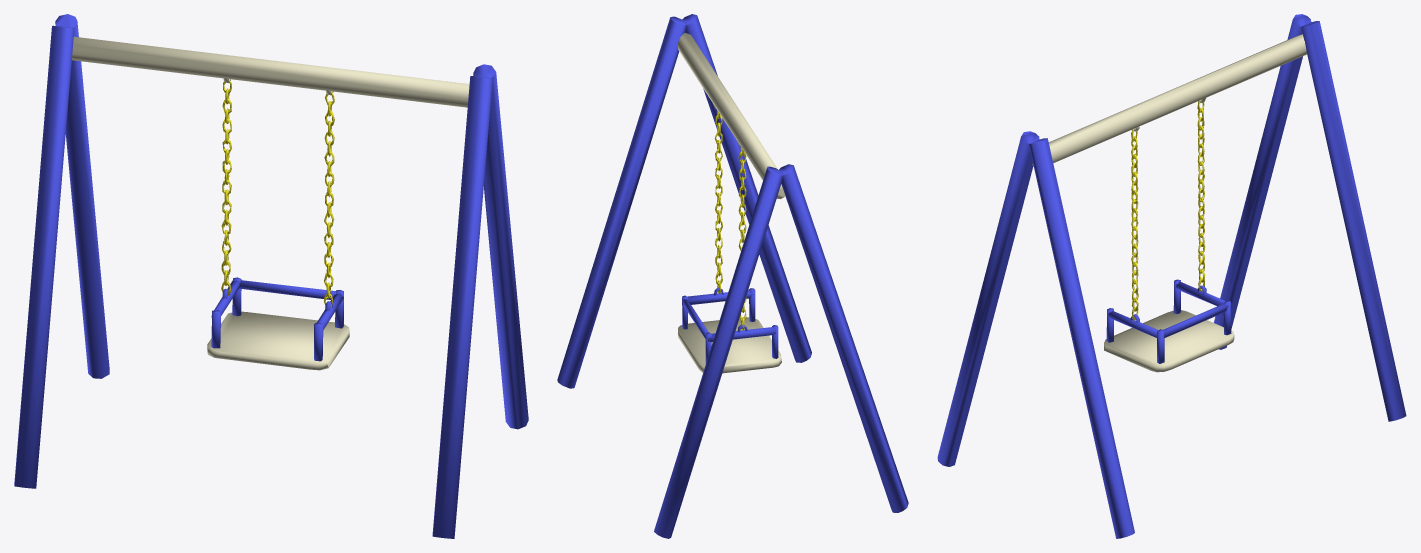
Rendered from altalena2.fbx.
3 views of the same model, side by side, from view 1: azimuth 30°, elevation 25°; view 2: azimuth 150°, elevation 25°; view 3: azimuth 270°, elevation 25° (orthographic). The views are drawn at different scales.
Visible parts, largest first — view 1: altalena; view 2: altalena; view 3: altalena.
Boxes of the visible parts, left/top/right/bottom form: altalena: left=14, top=14, right=528, bottom=538; altalena: left=557, top=14, right=908, bottom=538; altalena: left=937, top=14, right=1406, bottom=538.
Bounding box in the file's own units: 1029 × 892 × 1029.
